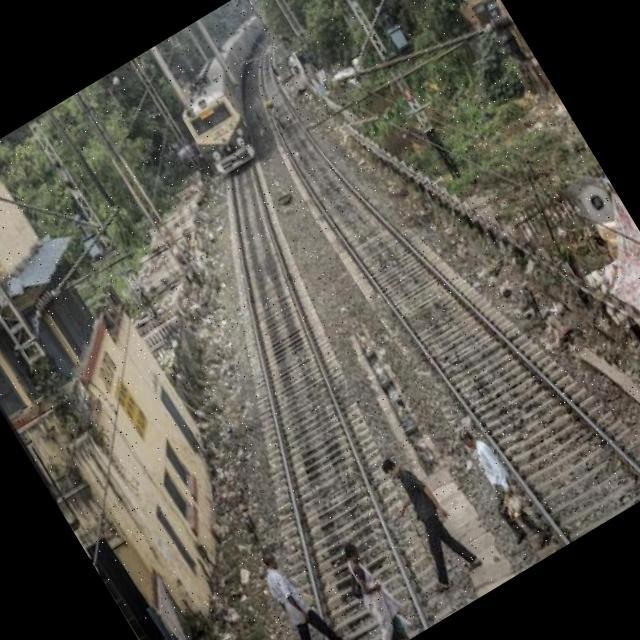person: (352, 428, 506, 618), (440, 398, 572, 569), (235, 527, 365, 640), (328, 531, 426, 640)
